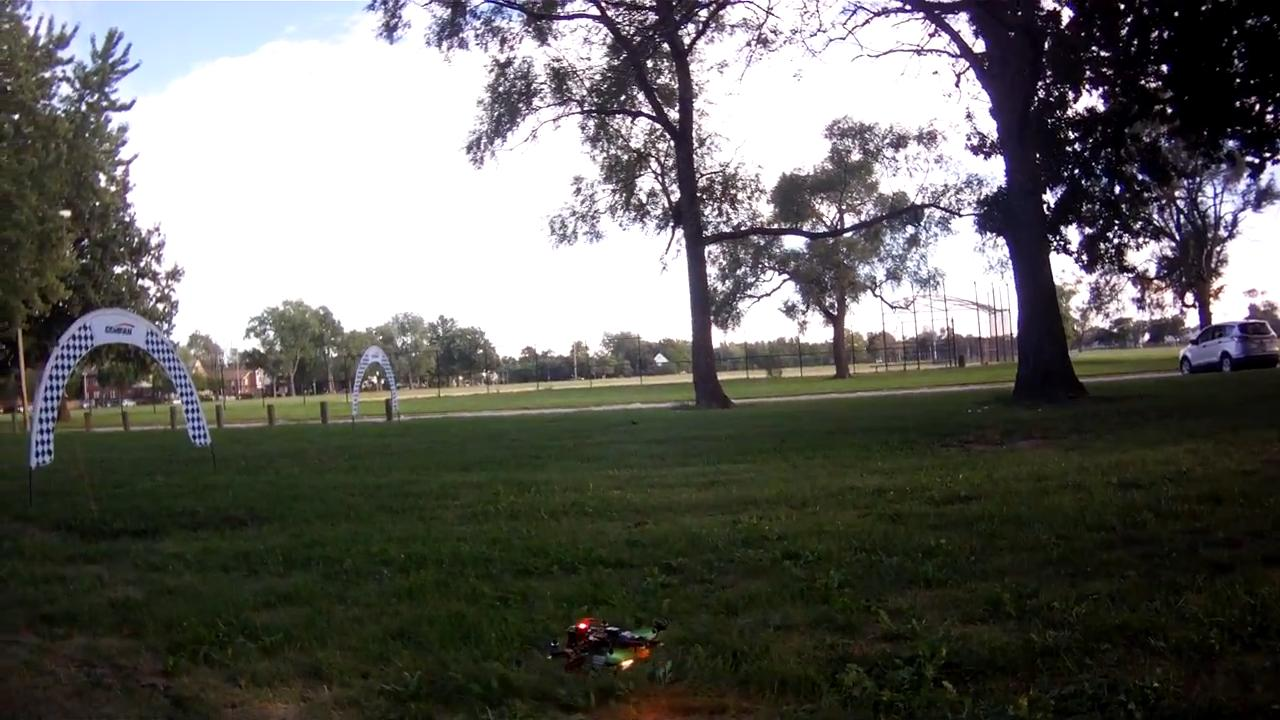gate: (30, 303, 206, 467), (347, 341, 397, 429)
